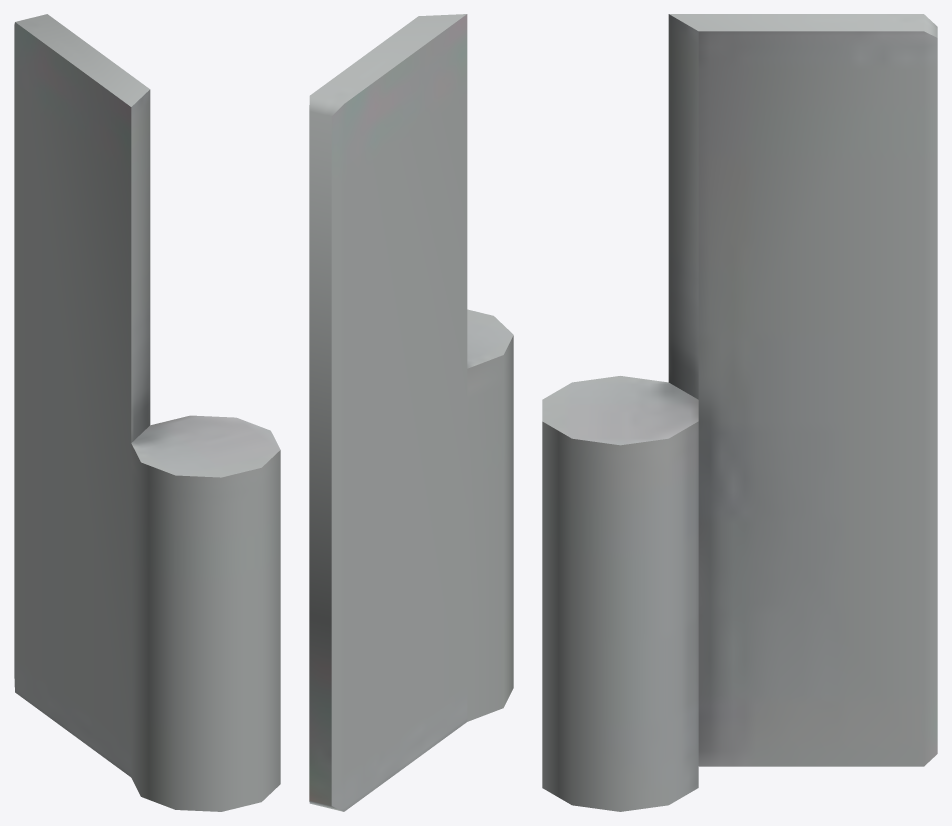
Rendered from SM_Bathroom_Stalls_Hinge_01.glb.
3 views of the same model, side by side, from view 1: azimuth 30°, elevation 25°; view 2: azimuth 150°, elevation 25°; view 3: azimuth 270°, elevation 25° (orthographic). The views are drawn at different scales.
Parts seen in each view (by area): view 1: SM_Bathroom_Stalls_Hinge_01; view 2: SM_Bathroom_Stalls_Hinge_01; view 3: SM_Bathroom_Stalls_Hinge_01.
Part boxes in pixels (<box>): SM_Bathroom_Stalls_Hinge_01: <box>14,14,280,811</box>; SM_Bathroom_Stalls_Hinge_01: <box>309,14,513,811</box>; SM_Bathroom_Stalls_Hinge_01: <box>542,14,937,811</box>.
Size of the model in its own units: 0.0177 by 0.0873 by 0.0426.
1 material, 1 textured.
